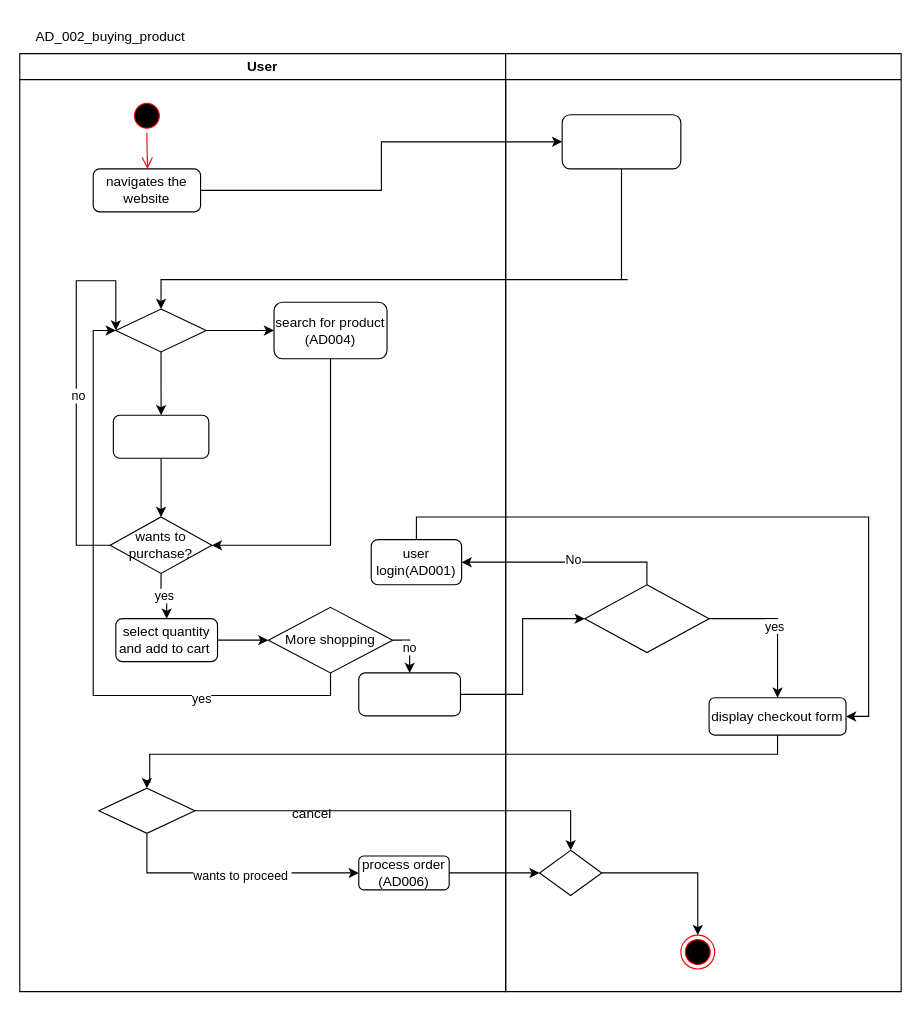
The diagram is 921 pixels wide and 1011 high, and some of its shapes have lost their labels. The box of each missing label's shape, as (x1, y1, x2, y2) in pixels:
browse items (AD005): (112, 414, 209, 458)
display items and offers: (561, 114, 681, 169)
is user logged in?: (584, 584, 709, 653)
proceed to checkout: (358, 672, 460, 716)
System: (505, 53, 901, 992)
